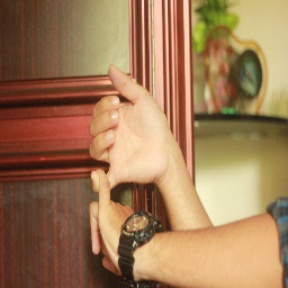S: (74, 62, 182, 279)
